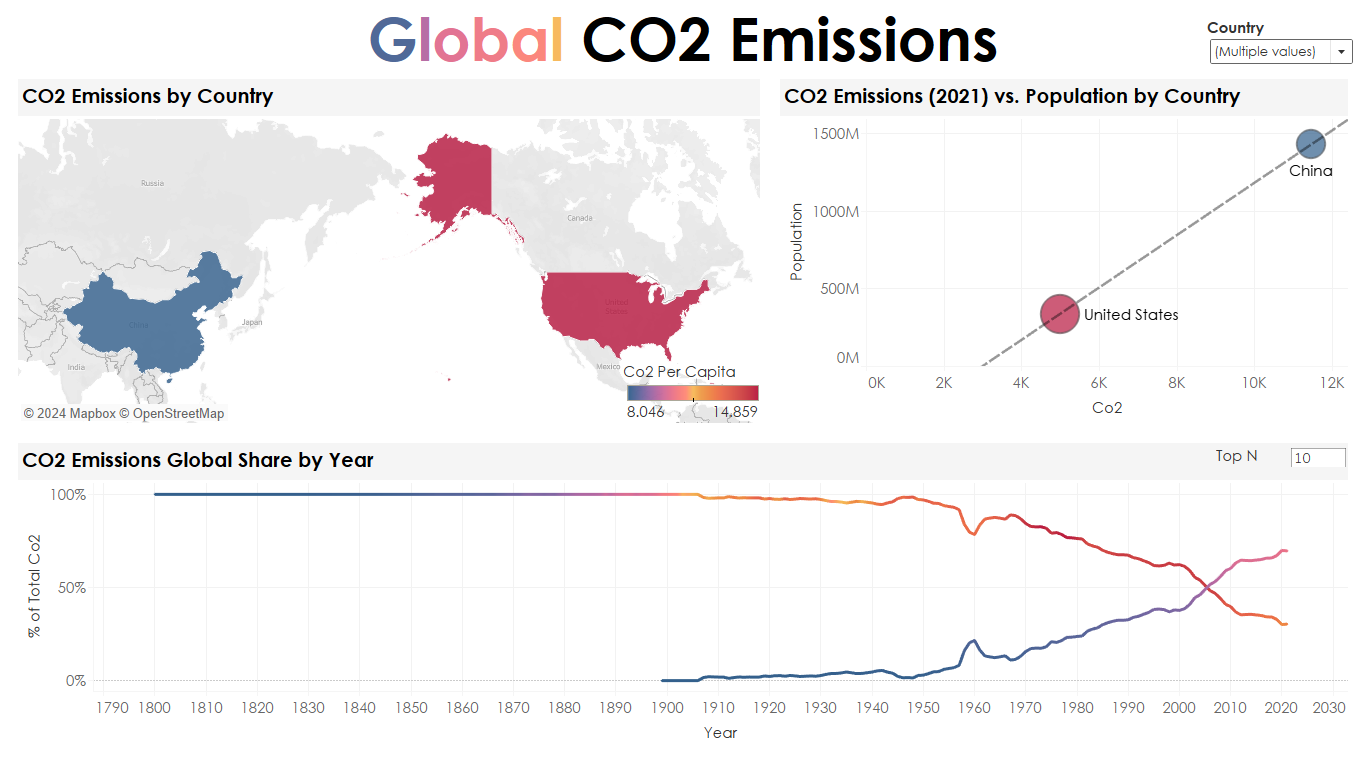

What the dashboard file says about the page in this screenshot:
{"tool":"tableau","page":{"name":"Global CO2 Emissions","canvas":[1366,768],"ordinal":0},"visuals":[{"type":"text","box":[8,8,1350,63.2]},{"type":"filter","title":"Map","param":"[federated.0qpziib1qk9rpu12heb5i0mj1wvz].[none:Country (copy)_124721568004842700","box":[1207,20,149,48]},{"type":"worksheet","title":"Map","mark":"Automatic","box":[8,71.2,762,363.8]},{"type":"worksheet","title":"Scatter Plot","mark":"Circle","rows":["population"],"cols":["co2"],"box":[770,71.2,588,363.8]},{"type":"legend","title":"Map","param":"[federated.0qpziib1qk9rpu12heb5i0mj1wvz].[sum:co2_per_capita:qk]","box":[623,364,140,64]},{"type":"worksheet","title":"Line Chart","mark":"Automatic","cols":["year"],"box":[8,435,1350,325]},{"type":"parameter","param":"[Parameters].[Parameter 1]","box":[1216,447,133,22]}]}

Visuals, with their boxes in screenshot pixels (x1, y1, x2, y2), scaled from the page's 1366x768 canvas onto the 1357x763 screenshot:
text: BBox(8, 8, 1349, 71)
"Map" filter: BBox(1199, 20, 1347, 68)
"Map" worksheet: BBox(8, 71, 765, 432)
"Scatter Plot" worksheet (Circle marks): BBox(765, 71, 1349, 432)
"Map" legend: BBox(619, 362, 758, 425)
"Line Chart" worksheet: BBox(8, 432, 1349, 755)
parameter: BBox(1208, 444, 1340, 466)
